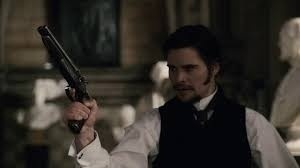pistol: (30, 22, 104, 137)
